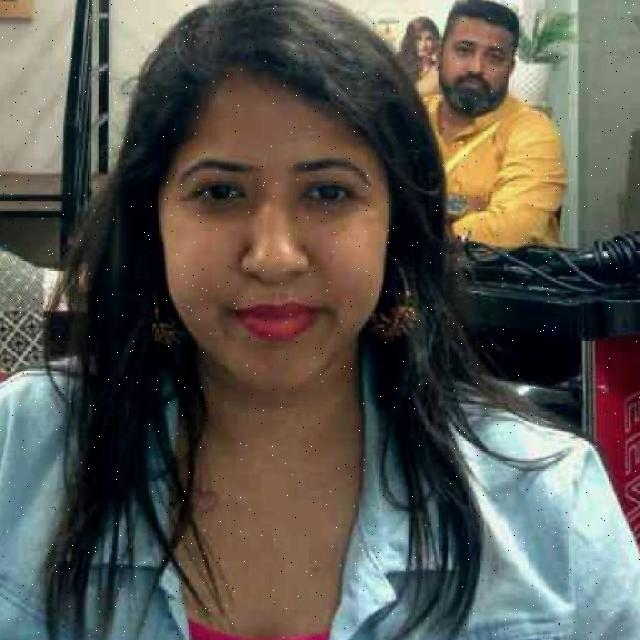puffy_eyes: (194, 200, 256, 224), (300, 198, 353, 216)
